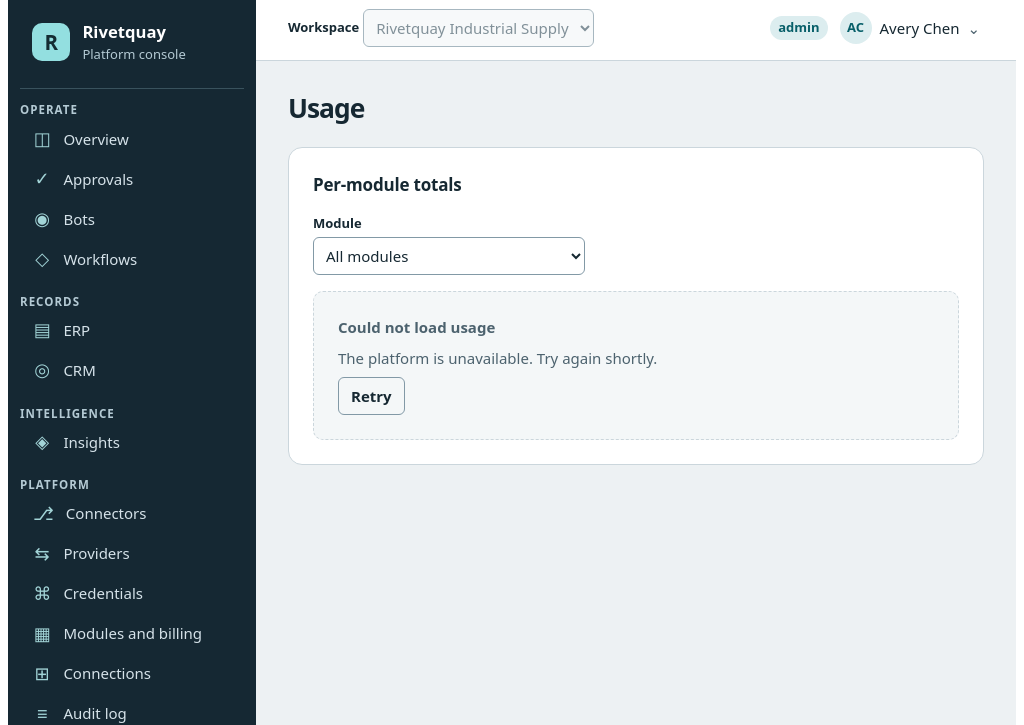
Test case: platform app › shows a retryable read failure and loads usage after retry
The image size is (1024, 725).
Check: the heading "Usage" is shown, box left=288, top=90, right=364, bottom=126
Click the button "Retry".
click(371, 396)  # box left=338, top=377, right=405, bottom=415
(page scrolled)
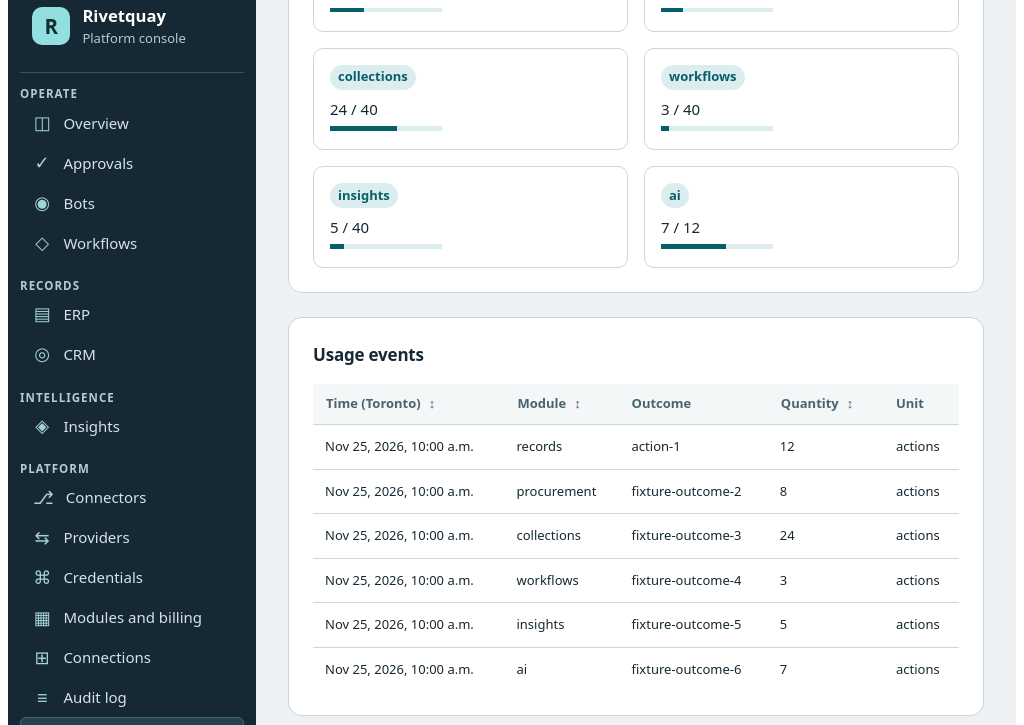
Check: the table named "Usage events" is shown, box left=313, top=384, right=959, bottom=691
